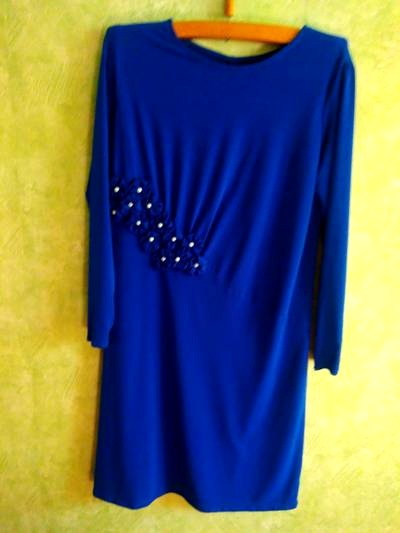Dress: (54, 14, 366, 521)
